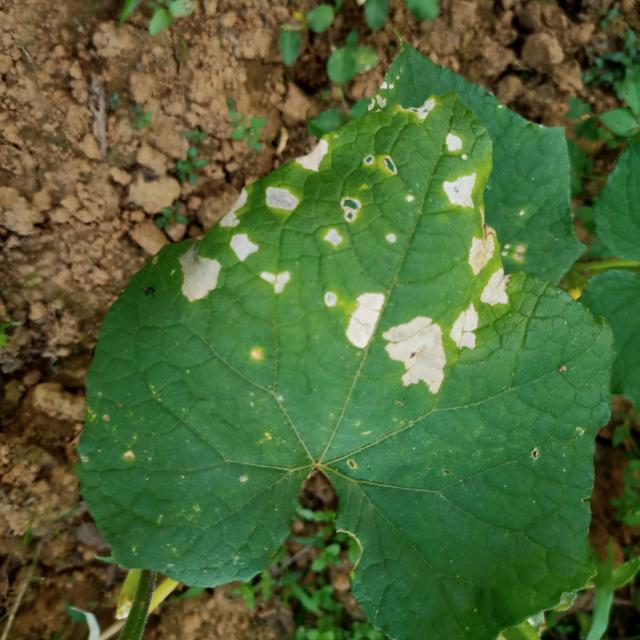disease_cucumber: (347, 289, 450, 395), (467, 235, 510, 304), (172, 240, 222, 298), (441, 131, 477, 210), (220, 196, 260, 262), (320, 195, 360, 251), (447, 304, 482, 349), (297, 139, 337, 178), (264, 184, 303, 213), (259, 267, 292, 300)
